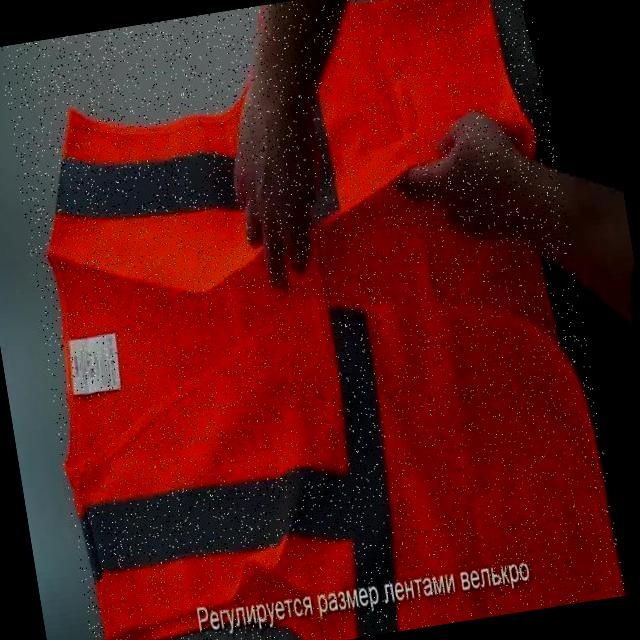no-gloves: (171, 0, 438, 331), (350, 30, 620, 352)
vest: (0, 0, 627, 640)
